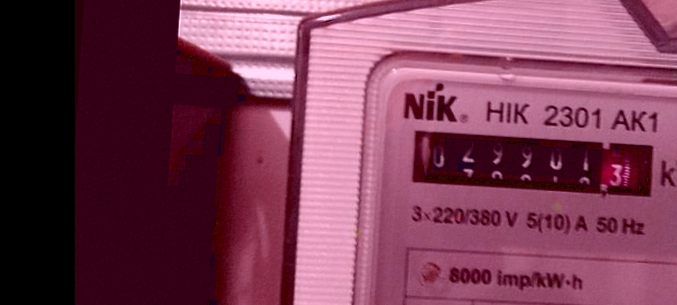0: (549, 143, 567, 173), (430, 141, 449, 169)
1: (580, 144, 595, 173)
2: (460, 137, 480, 165)
3: (608, 161, 626, 188)
9: (490, 139, 508, 167), (521, 142, 536, 170)
screen: (403, 119, 667, 208)
